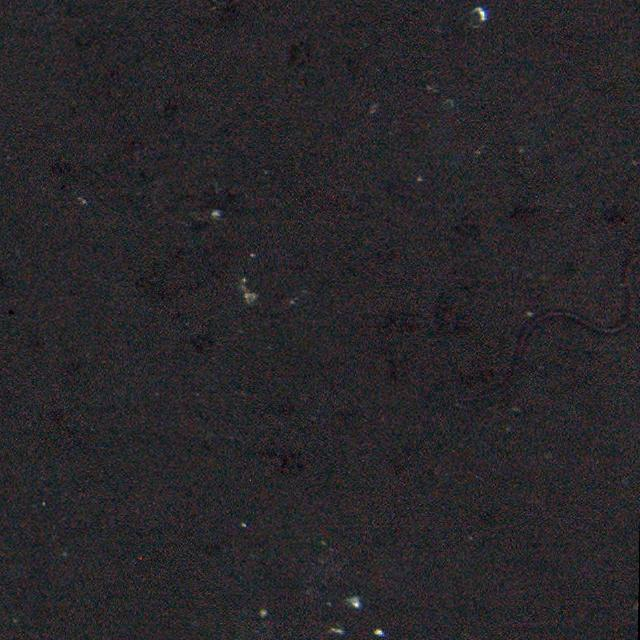eel: (466, 251, 640, 405)
